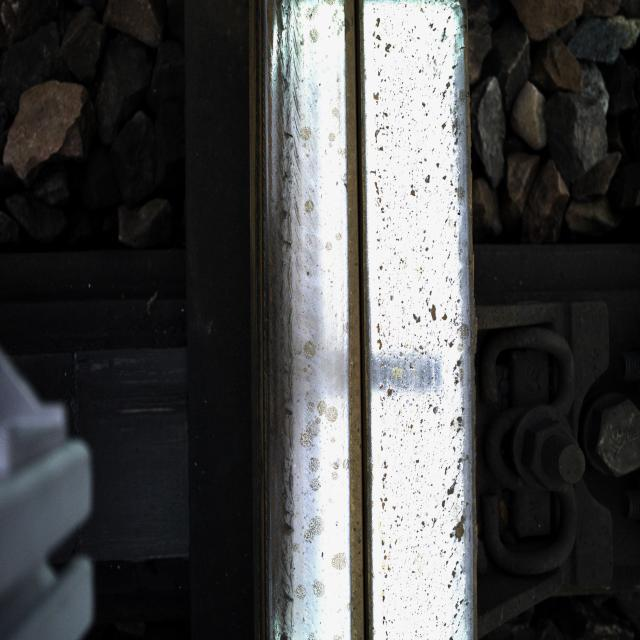scar: (372, 16, 468, 569), (286, 1, 352, 565)
